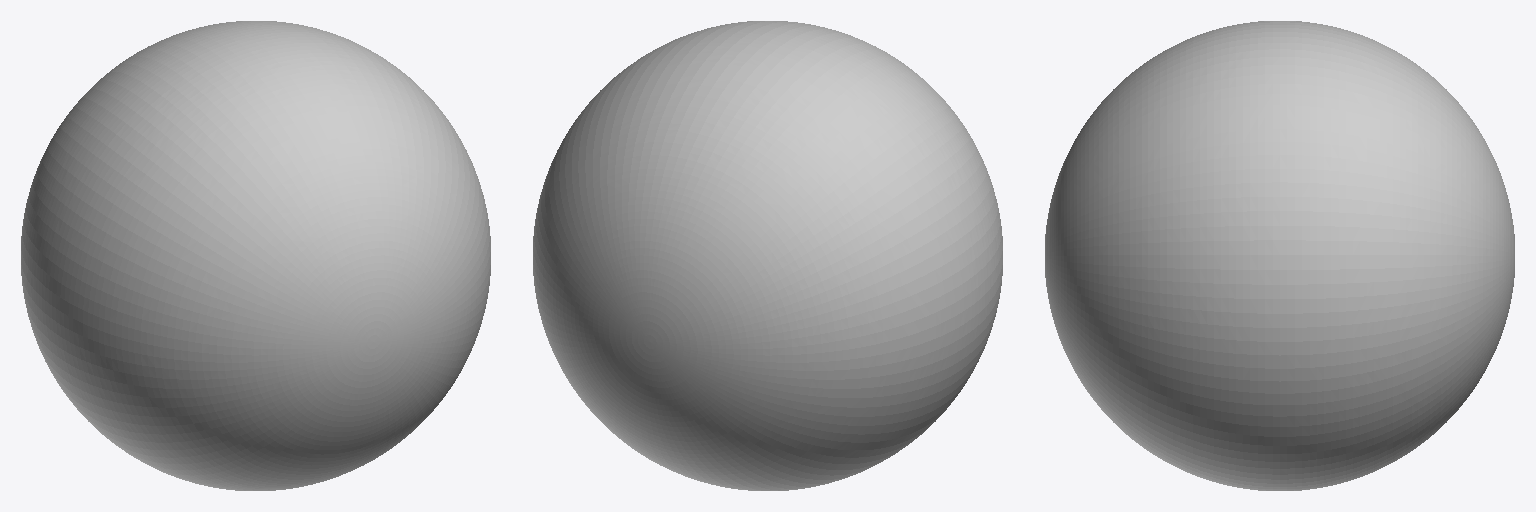
File: Moon.obj
The picture shows the model from 3 angles: view 1: azimuth 30°, elevation 25°; view 2: azimuth 150°, elevation 25°; view 3: azimuth 270°, elevation 25°; orthographic projection.
Parts seen in each view (by area): view 1: node_id55; view 2: node_id55; view 3: node_id55.
Boxes of the visible parts, box(x1,y1,x2,y2) form: node_id55: box(21, 21, 490, 490); node_id55: box(533, 21, 1002, 490); node_id55: box(1045, 21, 1514, 490).
Size of the model in its own units: 0.008 by 0.008 by 0.008.